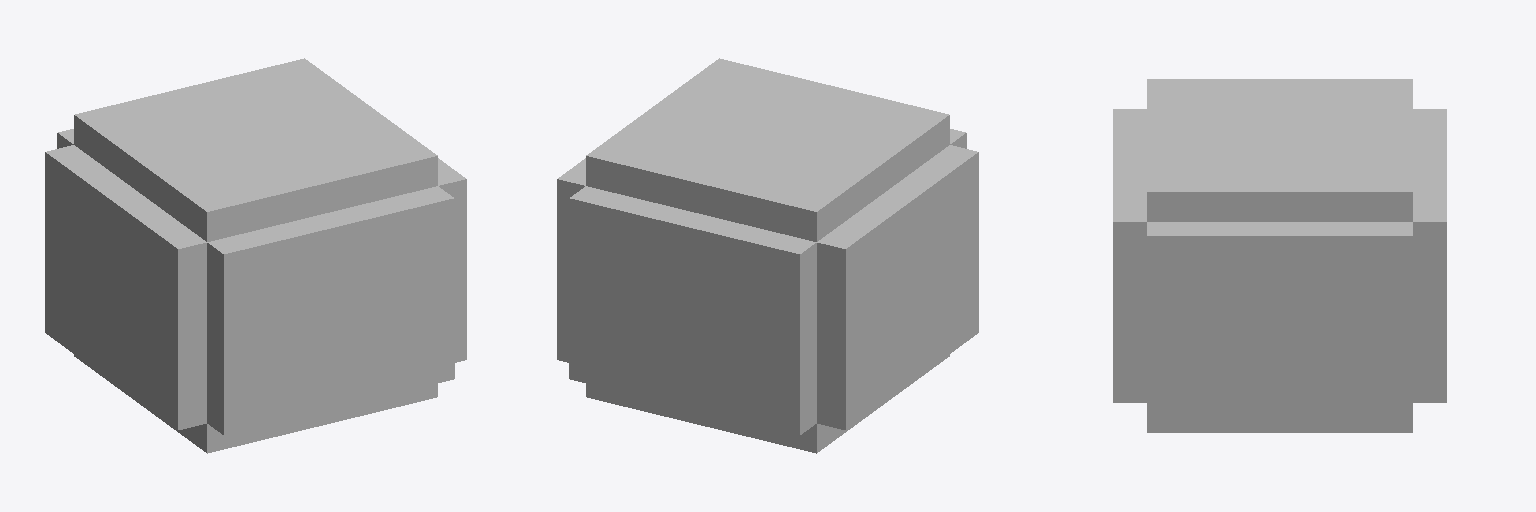
The model's file is gayman.obj.
The picture shows the model from 3 angles: view 1: azimuth 30°, elevation 25°; view 2: azimuth 150°, elevation 25°; view 3: azimuth 270°, elevation 25°; orthographic projection.
Visible parts, largest first — view 1: entity0_brush1, entity0_brush5, entity0_brush4, entity0_brush0, entity0_brush3; view 2: entity0_brush2, entity0_brush5, entity0_brush4, entity0_brush0, entity0_brush3; view 3: entity0_brush3, entity0_brush5, entity0_brush1, entity0_brush2, entity0_brush0.
Part boxes in pixels (bbox=[...]): entity0_brush1: bbox=[207, 186, 454, 435]; entity0_brush5: bbox=[74, 58, 437, 241]; entity0_brush4: bbox=[45, 145, 206, 429]; entity0_brush0: bbox=[74, 354, 437, 453]; entity0_brush3: bbox=[438, 158, 466, 362]; entity0_brush2: bbox=[569, 186, 816, 435]; entity0_brush5: bbox=[586, 58, 949, 241]; entity0_brush4: bbox=[817, 145, 978, 429]; entity0_brush0: bbox=[586, 354, 949, 453]; entity0_brush3: bbox=[557, 158, 585, 362]; entity0_brush3: bbox=[1147, 222, 1412, 416]; entity0_brush5: bbox=[1147, 79, 1412, 221]; entity0_brush1: bbox=[1113, 109, 1146, 402]; entity0_brush2: bbox=[1413, 109, 1446, 402]; entity0_brush0: bbox=[1147, 417, 1412, 432].
Size of the model in its own units: 160 by 128 by 160.